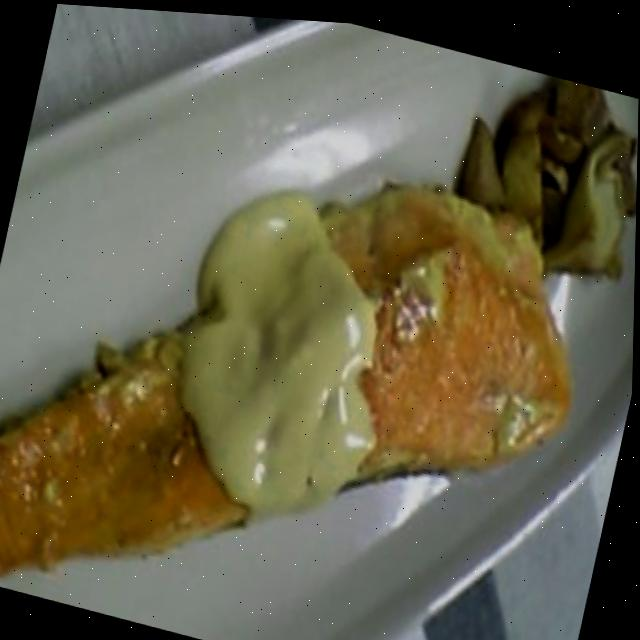熟制海鲜: (0, 78, 639, 640)
